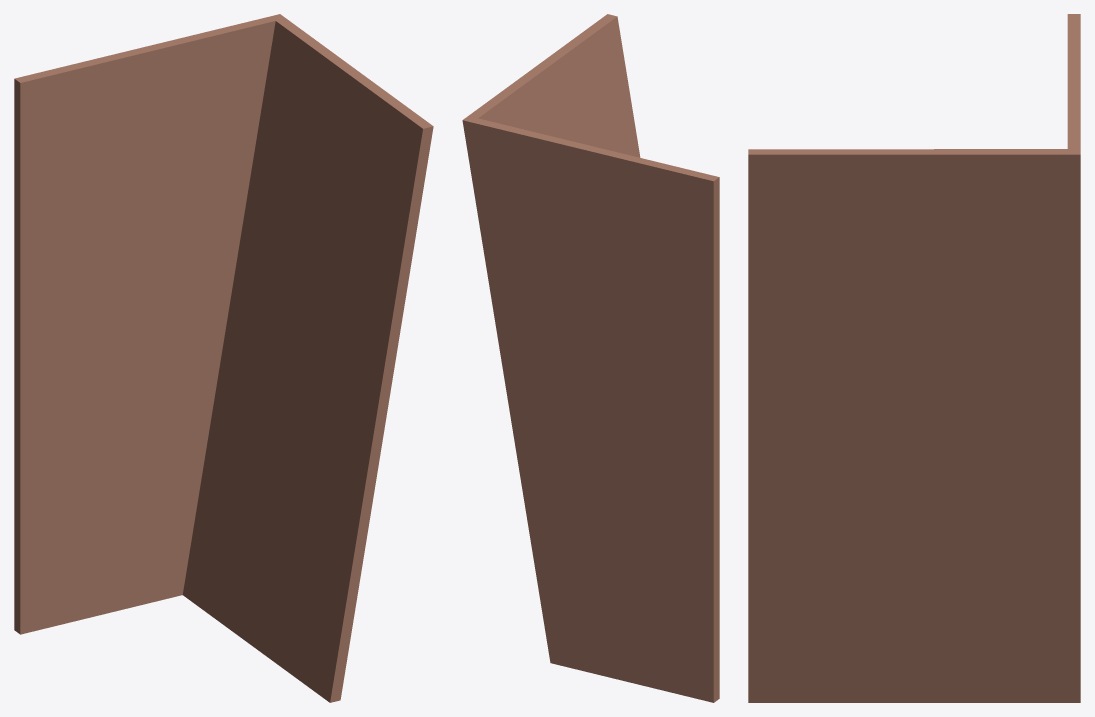
File: mur fond angle etage2.FBX
The picture shows the model from 3 angles, left to right: view 1: azimuth 30°, elevation 25°; view 2: azimuth 150°, elevation 25°; view 3: azimuth 270°, elevation 25°; orthographic projection. The views are drawn at different scales.
Visible parts, largest first — view 1: mur fond angle etage 2; view 2: mur fond angle etage 2; view 3: mur fond angle etage 2.
Boxes of the visible parts, <box> form: mur fond angle etage 2: <box>14,14,433,702</box>; mur fond angle etage 2: <box>462,14,719,702</box>; mur fond angle etage 2: <box>748,14,1080,702</box>.
Size of the model in its own units: 101 by 201 by 101.
1 material, 1 textured.
